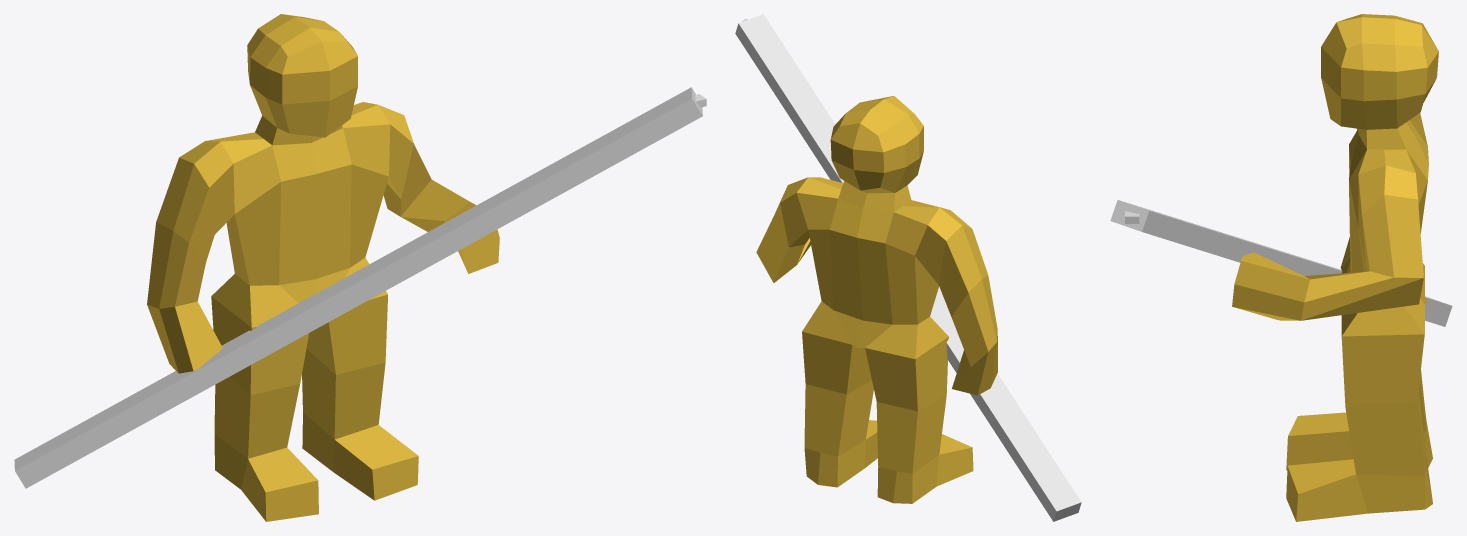
Rendered from brigand.glb.
The picture shows the model from 3 angles, left to right: view 1: azimuth 30°, elevation 25°; view 2: azimuth 150°, elevation 25°; view 3: azimuth 270°, elevation 25°; orthographic projection. The views are drawn at different scales.
Parts seen in each view (by area): view 1: Cube.001, Cube; view 2: Cube.001, Cube; view 3: Cube.001, Cube.
Boxes of the visible parts, <box> form: Cube.001: <box>147,14,499,521</box>; Cube: <box>14,87,702,488</box>; Cube.001: <box>756,96,997,503</box>; Cube: <box>735,14,1081,521</box>; Cube.001: <box>1232,14,1438,521</box>; Cube: <box>1110,200,1452,326</box>.
Size of the model in its own units: 2.73 by 2.14 by 1.42.
